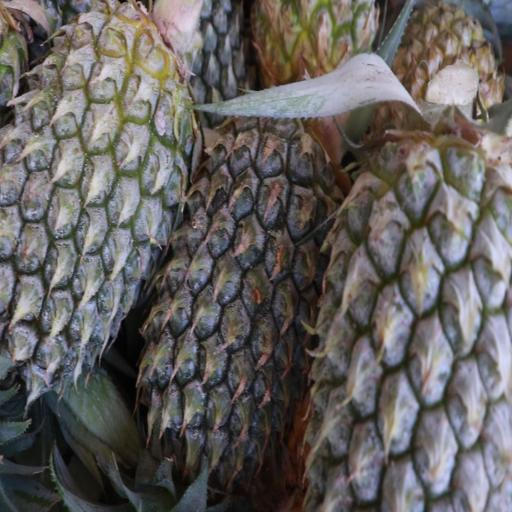------------------------------: (264, 0, 386, 104)
